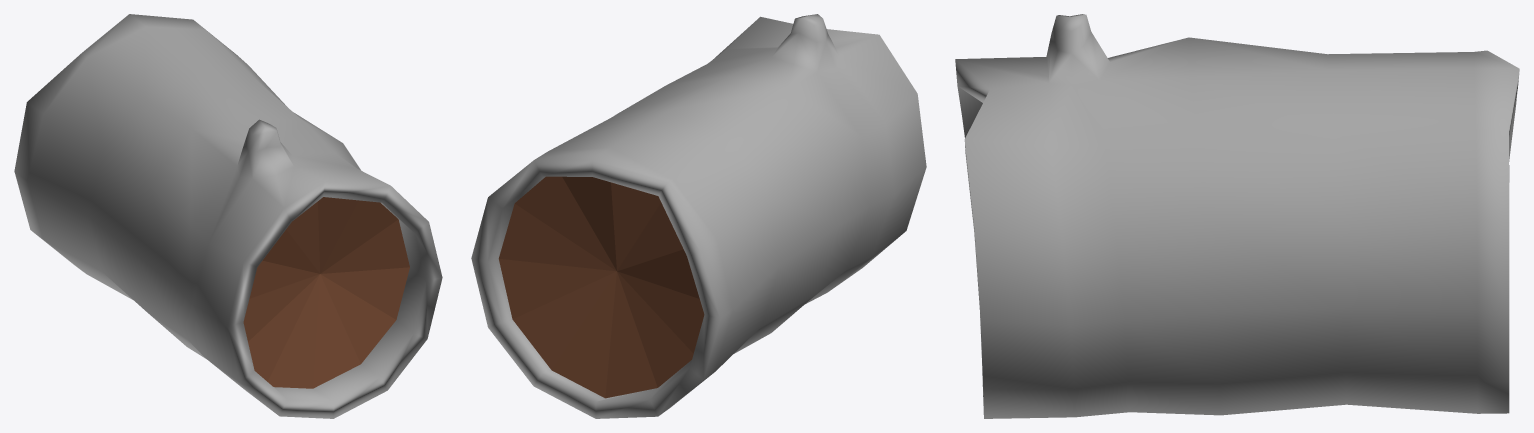
The model's file is Tronco_tumbado.fbx.
3 renders of one model, left to right at view 1: azimuth 30°, elevation 25°; view 2: azimuth 150°, elevation 25°; view 3: azimuth 270°, elevation 25°, orthographic. The views are drawn at different scales.
Visible parts, largest first — view 1: pCylinder3; view 2: pCylinder3; view 3: pCylinder3.
Boxes of the visible parts, x1,y1,x2,y2 form: pCylinder3: (14,14,442,418); pCylinder3: (471,14,926,418); pCylinder3: (955,14,1519,418).
Size of the model in its own units: 55.37 by 62.02 by 86.53.
